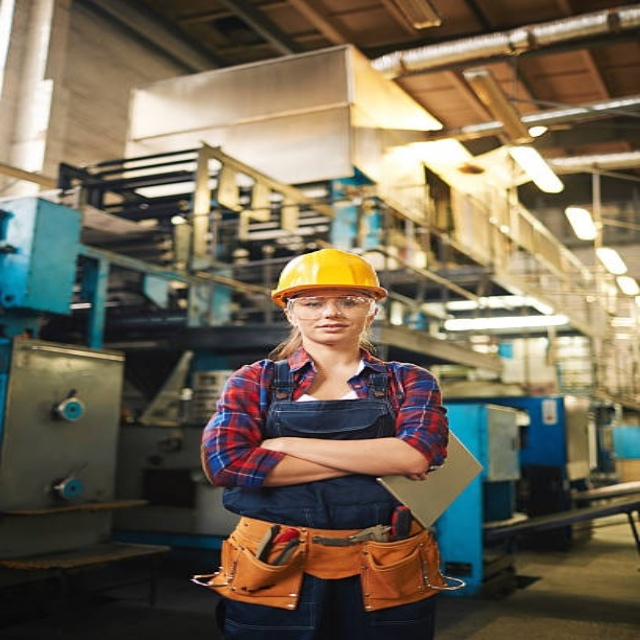Gafas: (287, 295, 376, 321)
Sin_mascara: (306, 317, 348, 337)
